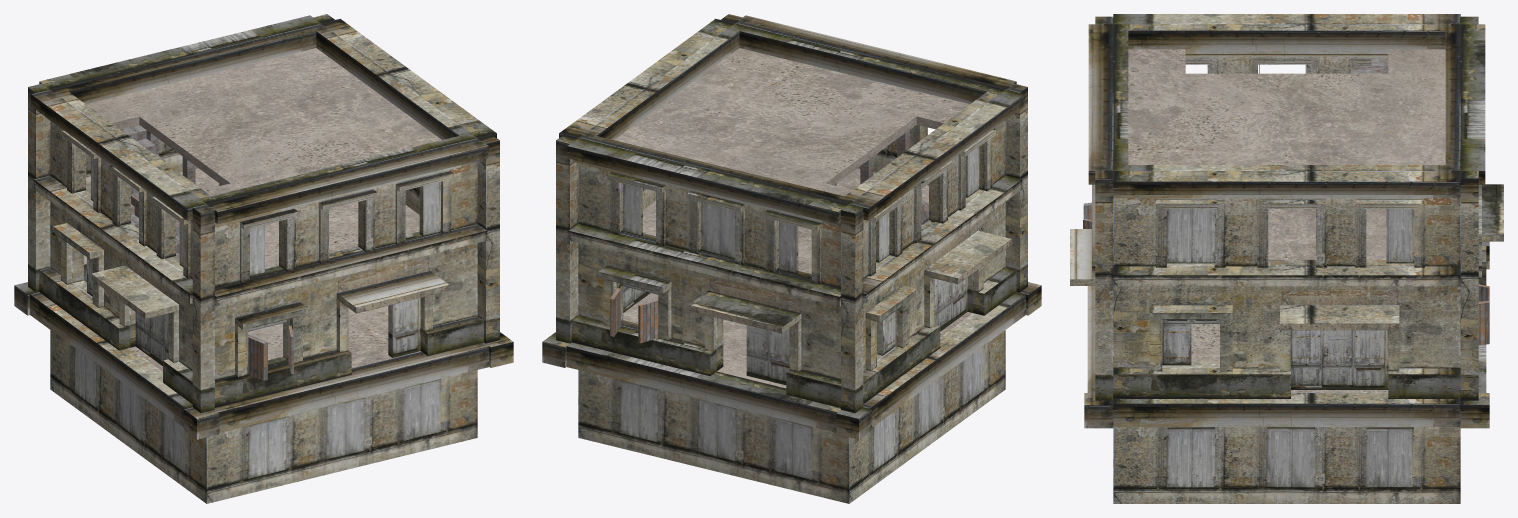
The model's file is BagBuilding10_200.fbx.
The picture shows the model from 3 angles, left to right: view 1: azimuth 30°, elevation 25°; view 2: azimuth 150°, elevation 25°; view 3: azimuth 270°, elevation 25°; orthographic projection. The views are drawn at different scales.
Parts seen in each view (by area): view 1: main200, floors200, stairs200, shutters200; view 2: main200, floors200, shutters200, stairs200; view 3: main200, floors200, shutters200.
Part boxes in pixels (x1,y1,x2,y2): main200: (14,14,513,503); floors200: (86,48,441,371); stairs200: (120,125,221,258); shutters200: (248,325,293,380); main200: (542,14,1041,503); floors200: (614,48,972,388); shutters200: (610,288,658,343); stairs200: (834,130,928,224); main200: (1070,14,1503,503); floors200: (1128,49,1445,392); shutters200: (1083,202,1489,345).
Bounding box in the file's own units: 23.1 × 19.56 × 23.1.
